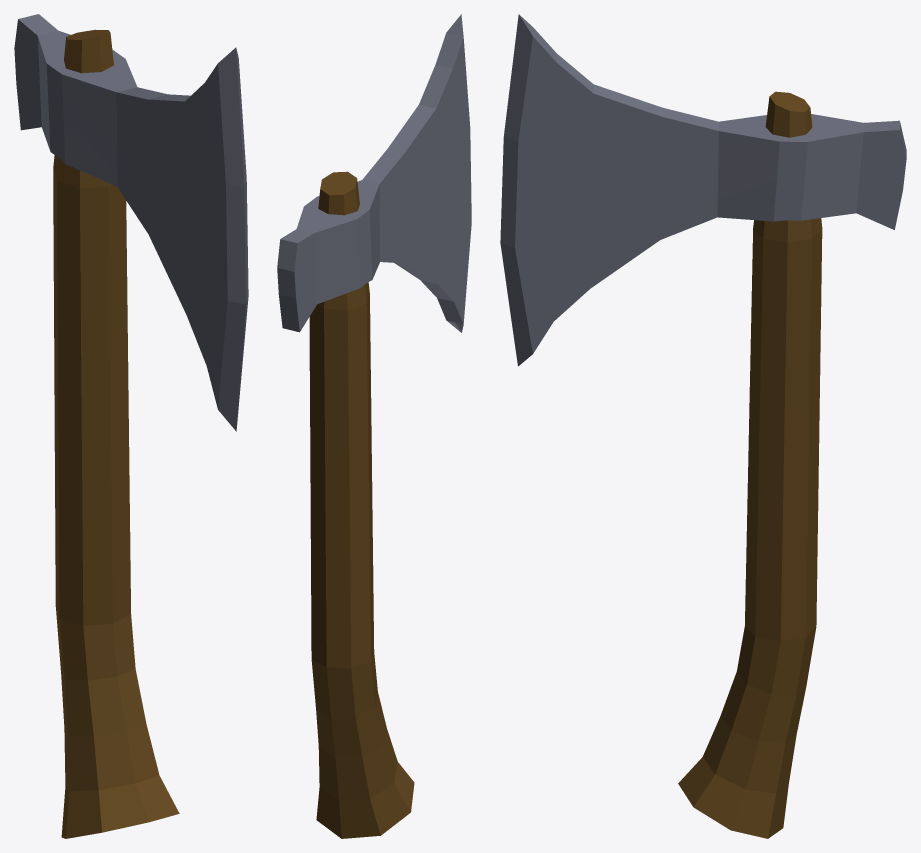
File: Axe.fbx
3 views of the same model, side by side, from view 1: azimuth 30°, elevation 25°; view 2: azimuth 150°, elevation 25°; view 3: azimuth 270°, elevation 25° (orthographic). The views are drawn at different scales.
Visible parts, largest first — view 1: Axe; view 2: Axe; view 3: Axe.
Part boxes in pixels (x1,y1,x2,y2): Axe: [14, 14, 248, 838]; Axe: [277, 14, 471, 838]; Axe: [500, 14, 906, 838].
Size of the model in its own units: 16.88 by 131 by 59.
